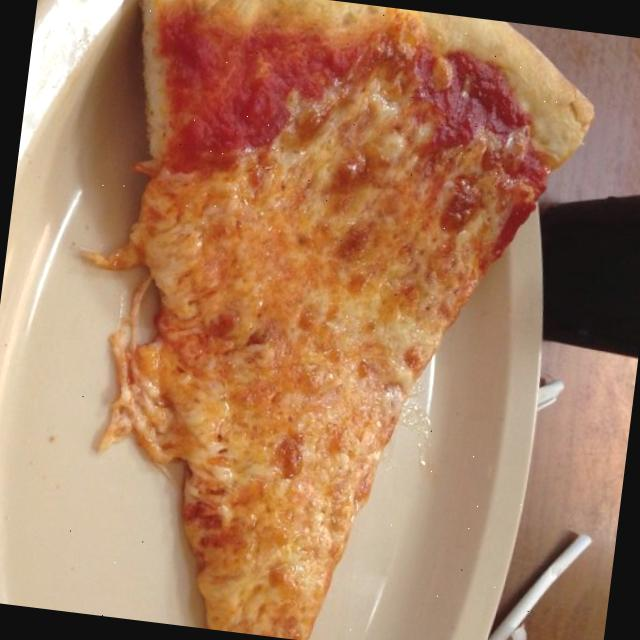cheese: (99, 323, 408, 498), (133, 214, 463, 364), (164, 463, 363, 640)
pizza: (86, 0, 591, 640)
